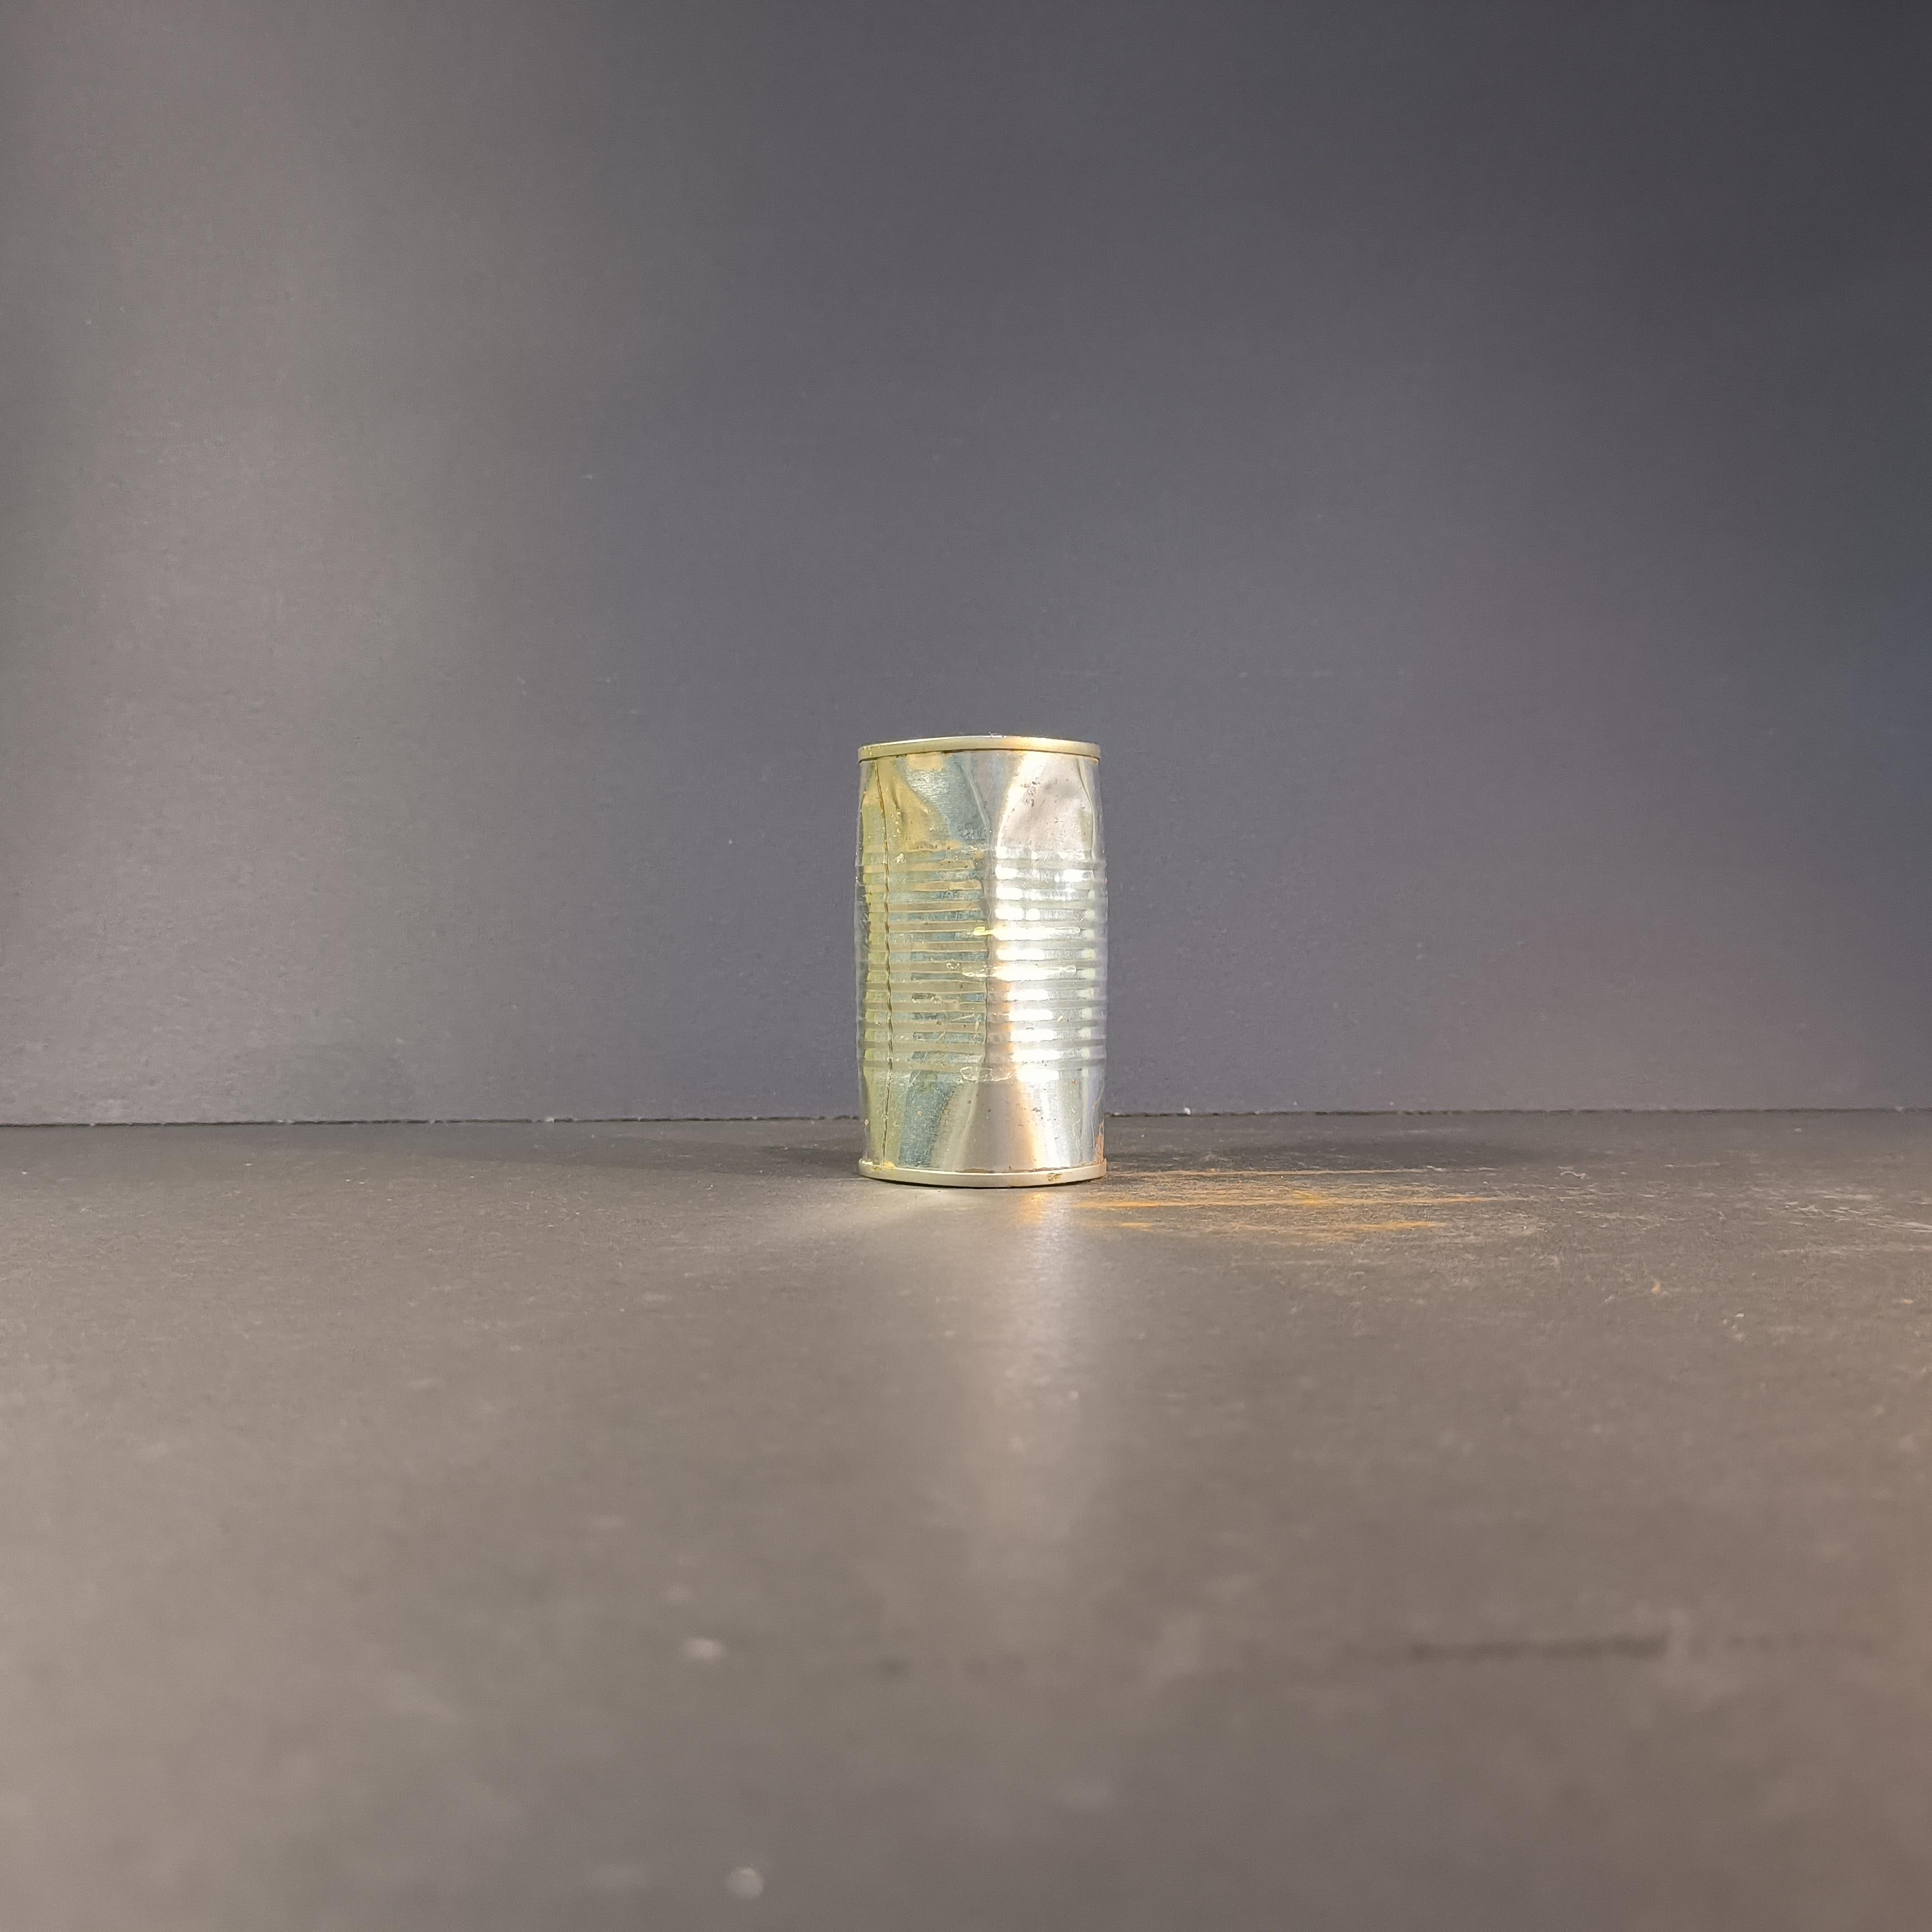Dented: (830, 718, 1129, 1215)
